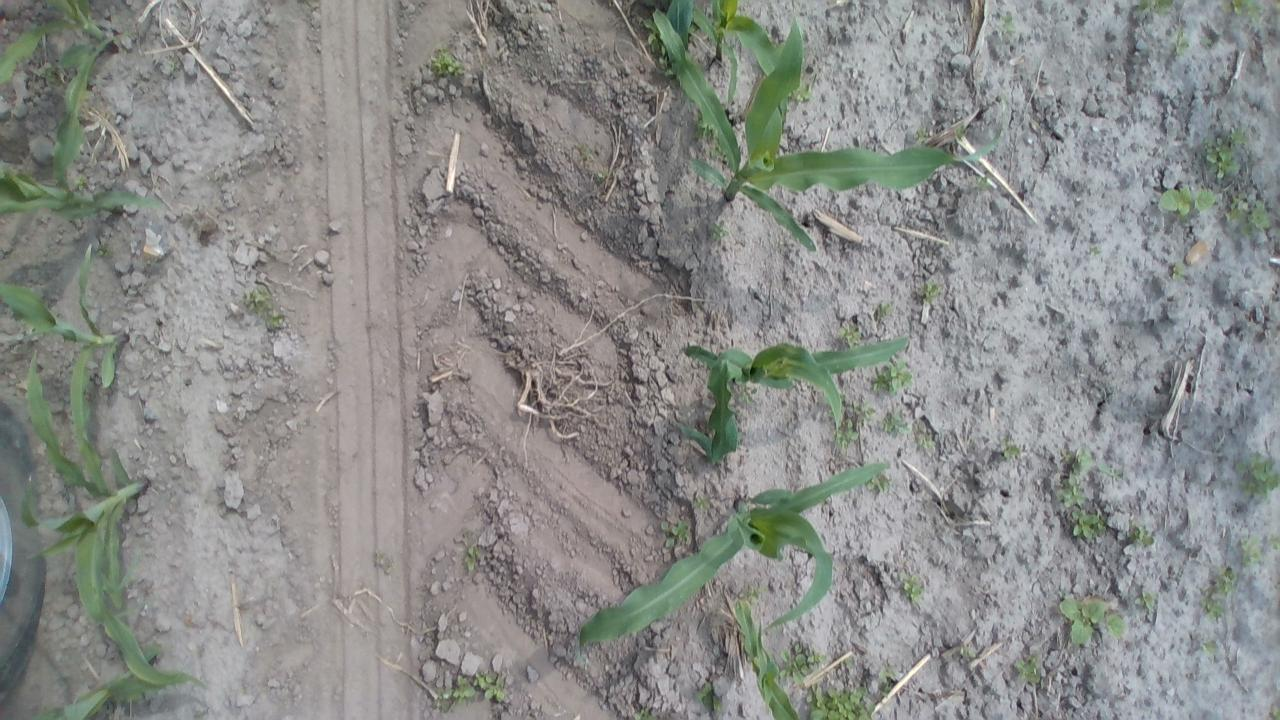Maize: (644, 2, 1004, 249), (576, 454, 899, 642), (9, 346, 181, 688), (5, 237, 134, 487), (674, 331, 911, 460), (0, 84, 169, 225), (0, 0, 135, 106), (672, 0, 784, 110), (729, 595, 802, 720), (22, 666, 192, 718)
Weeds: (1052, 449, 1104, 544), (1060, 592, 1125, 648), (1224, 186, 1274, 239), (804, 683, 879, 718), (1202, 127, 1246, 184), (1156, 185, 1220, 221), (239, 285, 287, 329), (1234, 451, 1276, 500), (1202, 564, 1238, 621), (868, 356, 916, 395), (776, 644, 822, 682), (438, 676, 478, 708), (428, 44, 466, 77), (1015, 650, 1048, 684), (474, 670, 508, 703), (694, 678, 726, 712), (1060, 445, 1095, 473), (899, 572, 926, 606), (996, 436, 1026, 466), (1239, 535, 1265, 569), (1130, 520, 1156, 553), (835, 418, 861, 451), (1220, 122, 1251, 149), (879, 409, 911, 435), (662, 519, 692, 546), (842, 395, 872, 422), (1130, 0, 1177, 17), (646, 24, 668, 60), (914, 278, 944, 304), (692, 110, 716, 142), (1098, 457, 1128, 482), (459, 542, 483, 573), (1225, 1, 1262, 20), (866, 472, 894, 496), (836, 321, 861, 347), (1135, 588, 1158, 616), (1169, 27, 1191, 56), (372, 552, 398, 576), (1197, 635, 1224, 657), (791, 82, 814, 106), (970, 169, 994, 192), (996, 13, 1018, 37), (36, 64, 58, 85), (574, 141, 597, 161), (38, 702, 64, 719), (1168, 260, 1188, 282), (911, 126, 933, 146), (630, 704, 660, 718), (878, 664, 898, 684), (709, 222, 730, 241), (916, 434, 934, 455), (592, 166, 612, 184), (951, 646, 972, 663), (692, 492, 710, 511), (874, 298, 894, 315), (95, 244, 114, 260), (165, 57, 182, 74)
